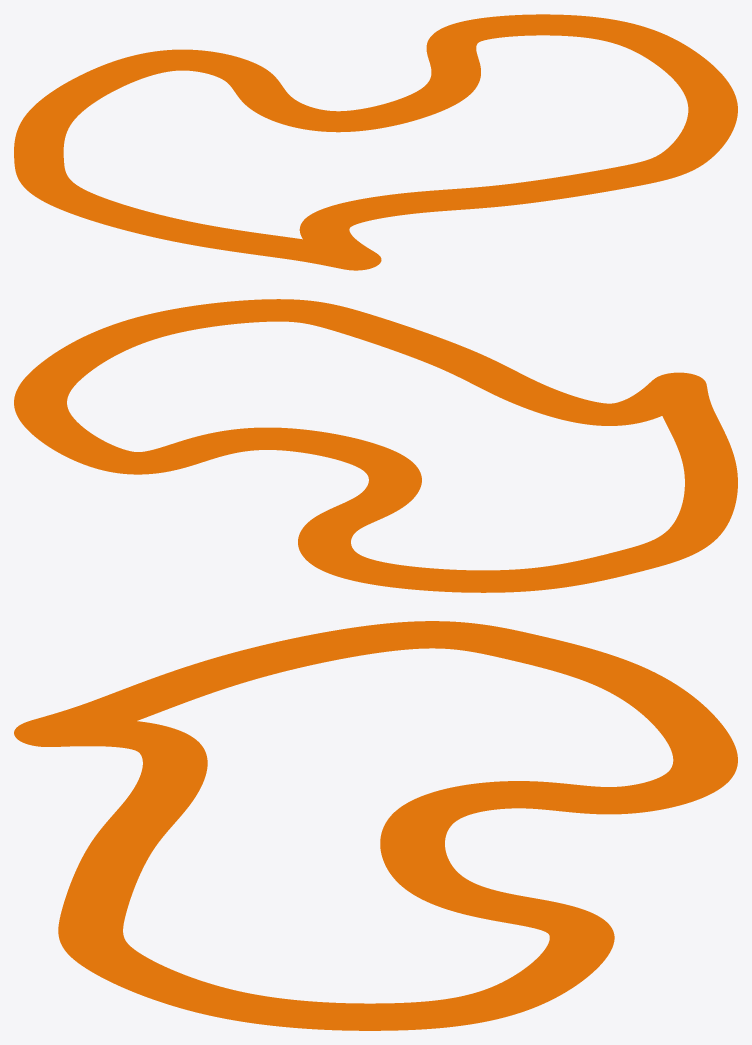
3 views of the same model, one above another, from view 1: azimuth 30°, elevation 25°; view 2: azimuth 150°, elevation 25°; view 3: azimuth 270°, elevation 25° (orthographic). The views are drawn at different scales.
Visible parts, largest first — view 1: road; view 2: road; view 3: road.
Part boxes in pixels (box(x1,y1,x2,y2)): road: box(14, 14, 737, 270); road: box(14, 299, 737, 592); road: box(14, 621, 737, 1030).
Size of the model in its own units: 1.5 by 0 by 1.12.
